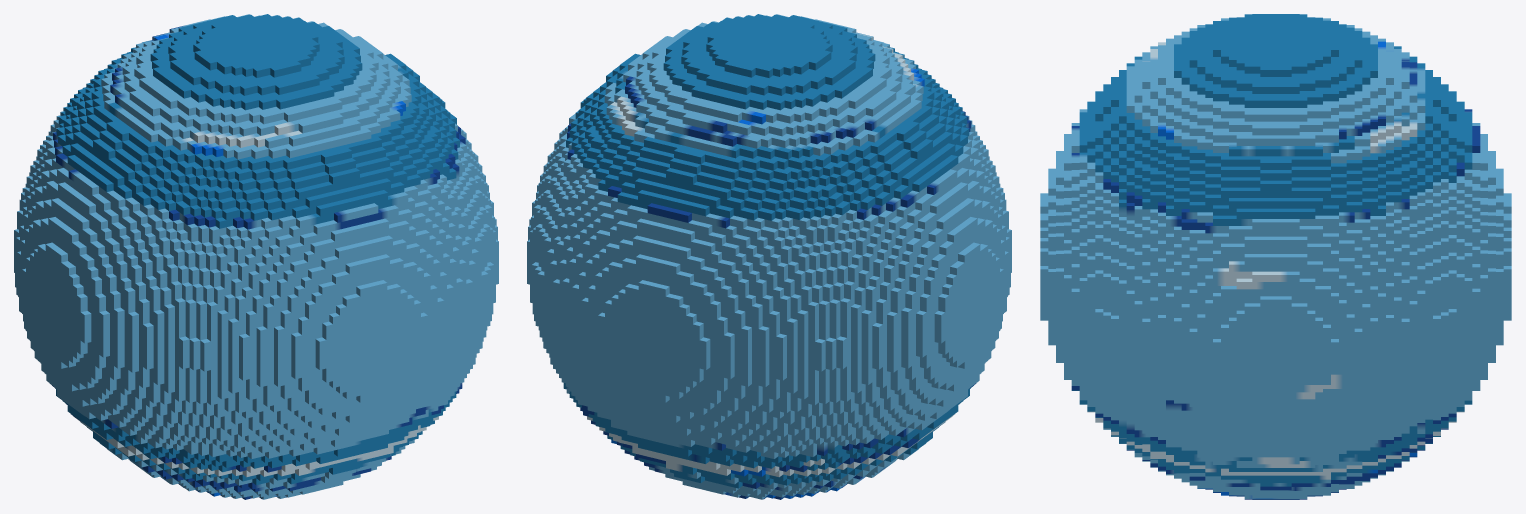
File: Uranus.fbx
The picture shows the model from 3 angles, left to right: view 1: azimuth 30°, elevation 25°; view 2: azimuth 150°, elevation 25°; view 3: azimuth 270°, elevation 25°; orthographic projection.
Parts seen in each view (by area): view 1: Uranus; view 2: Uranus; view 3: Uranus.
Boxes of the visible parts, x1,y1,x2,y2 form: Uranus: [14, 14, 498, 499]; Uranus: [527, 14, 1011, 499]; Uranus: [1040, 14, 1511, 499].
Bounding box in the file's own units: 60 × 60 × 60.
Materials: 1 (1 with a texture image).
